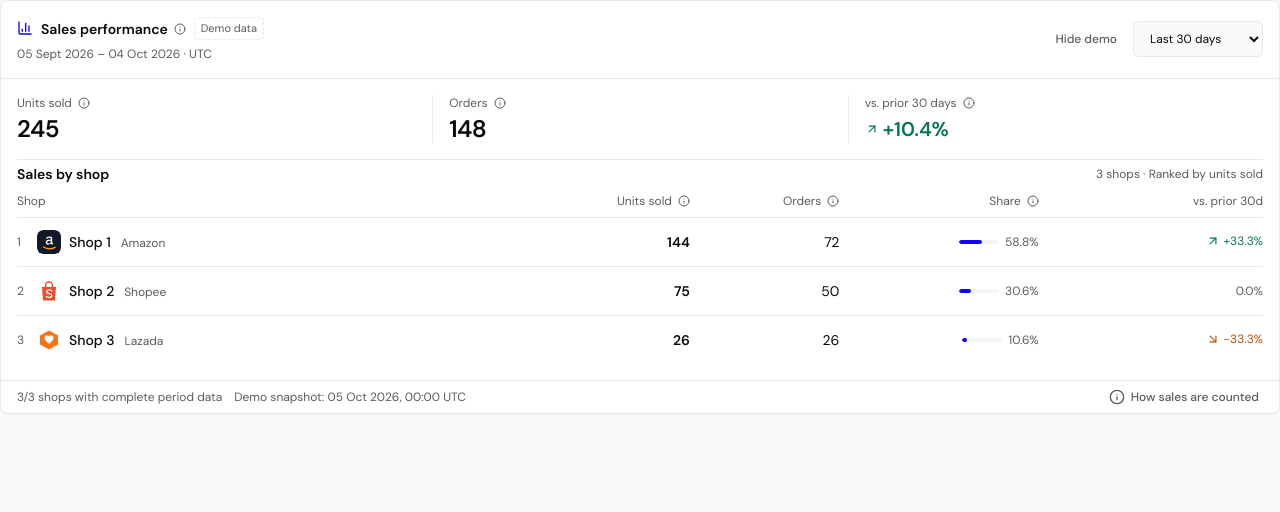
Scenario: ProductSalesPerformance › labels all examples and supports 7/30/90 days without mutating a draft Master
The width and height of the screenshot is (1280, 512).
Check: the text "Demo data" is shown, box [194,17,264,40]
Select "Last 7 days" in the dropdown named "Sales period" at (1198, 39), box [1133,21,1263,57]
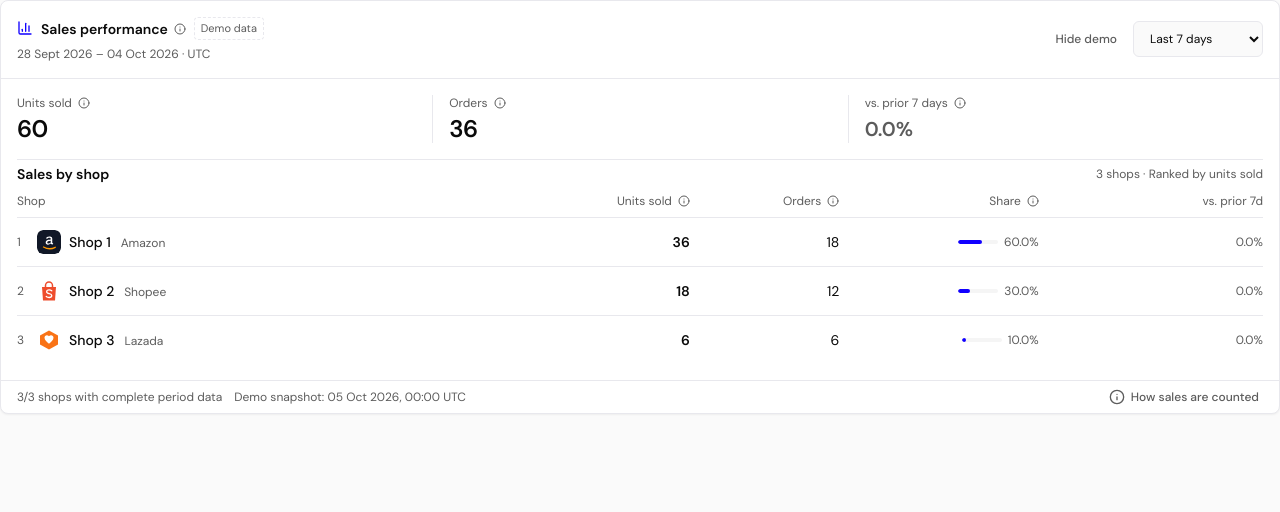
Select "Last 90 days" in the dropdown named "Sales period" at (1198, 39), box [1133,21,1263,57]
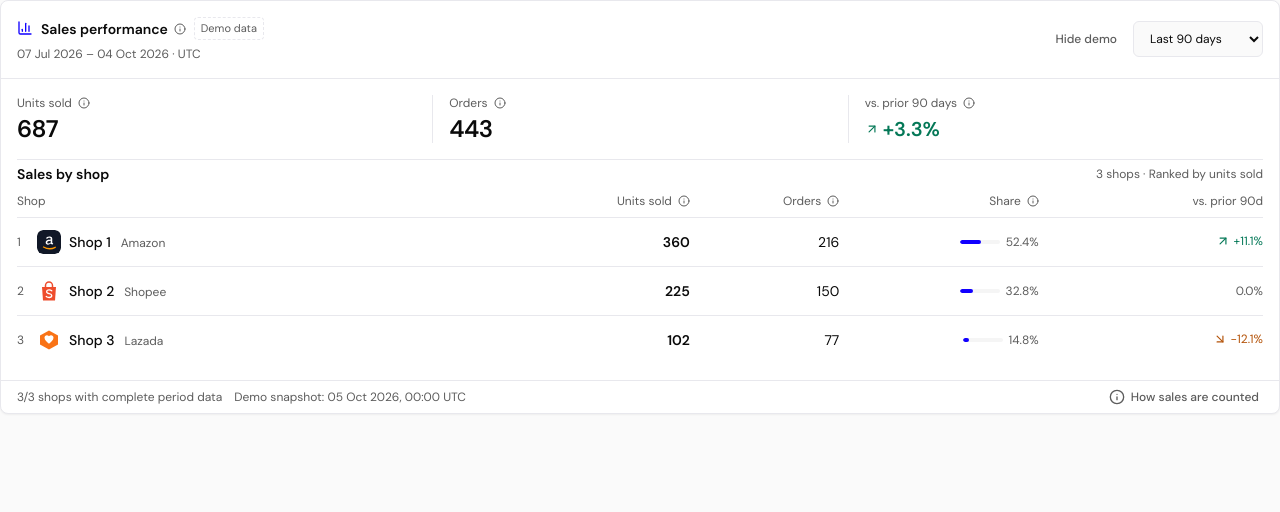
Click the button "Hide demo" at (1086, 39), box [1043,21,1129,57]
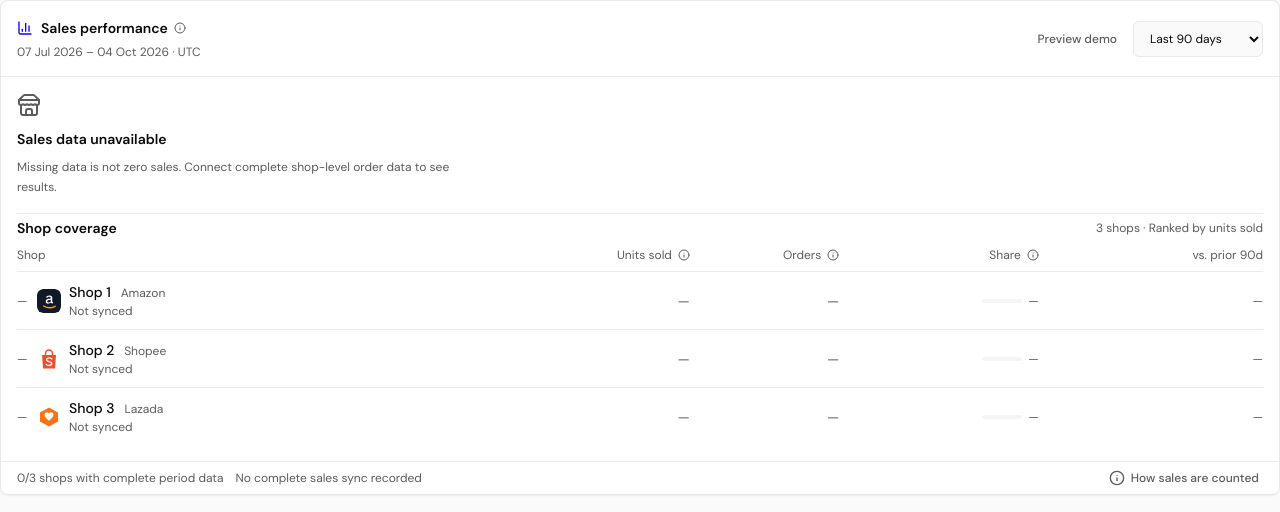
Check: the text "Sales data unavailable" is shown, box [17,130,167,148]
